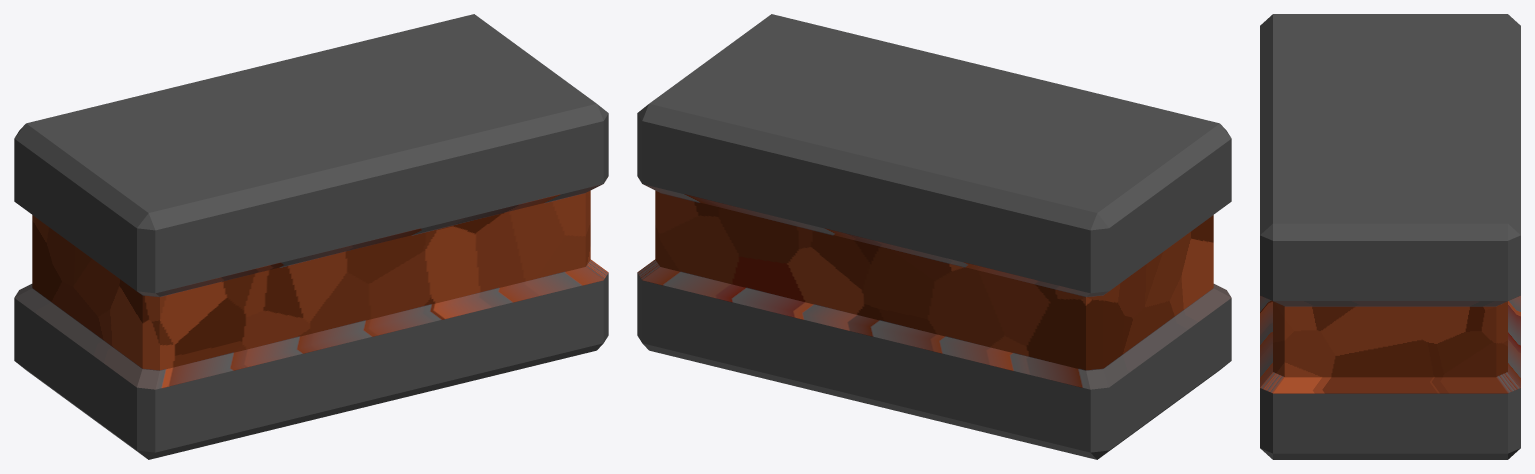
3 views of the same model, side by side, from view 1: azimuth 30°, elevation 25°; view 2: azimuth 150°, elevation 25°; view 3: azimuth 270°, elevation 25° (orthographic). The views are drawn at different scales.
Parts seen in each view (by area): view 1: 2b1Box; view 2: 2b1Box; view 3: 2b1Box.
Part boxes in pixels (<box>): 2b1Box: <box>14,14,608,459</box>; 2b1Box: <box>637,14,1231,459</box>; 2b1Box: <box>1260,14,1520,459</box>.
Bounding box in the file's own units: 4 × 2 × 2.
1 material, 1 textured.
